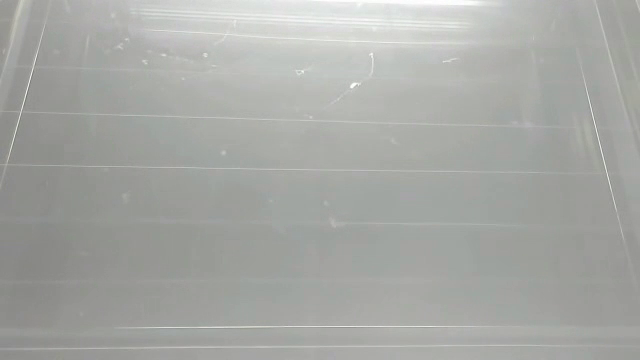alpha: (345, 77, 366, 94)
